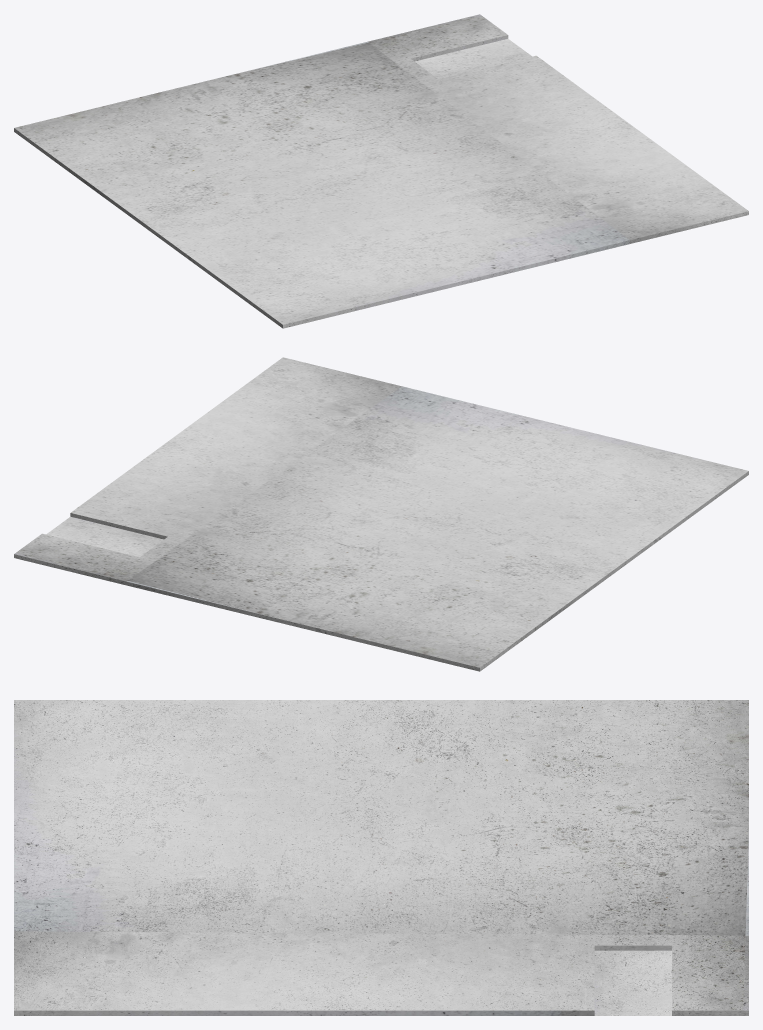
The model's file is Betonboden.obj.
3 views of the same model, one above another, from view 1: azimuth 30°, elevation 25°; view 2: azimuth 150°, elevation 25°; view 3: azimuth 270°, elevation 25° (orthographic). The views are drawn at different scales.
Parts seen in each view (by area): view 1: Mesh1 Component_837 G_1_Betonboden_dwg1 Model; view 2: Mesh1 Component_837 G_1_Betonboden_dwg1 Model; view 3: Mesh1 Component_837 G_1_Betonboden_dwg1 Model.
Part boxes in pixels (x1,y1,x2,y2): Mesh1 Component_837 G_1_Betonboden_dwg1 Model: (14, 14, 748, 328); Mesh1 Component_837 G_1_Betonboden_dwg1 Model: (14, 357, 748, 671); Mesh1 Component_837 G_1_Betonboden_dwg1 Model: (14, 700, 748, 1015).
Bounding box in the file's own units: 900 × 7.1 × 900.
